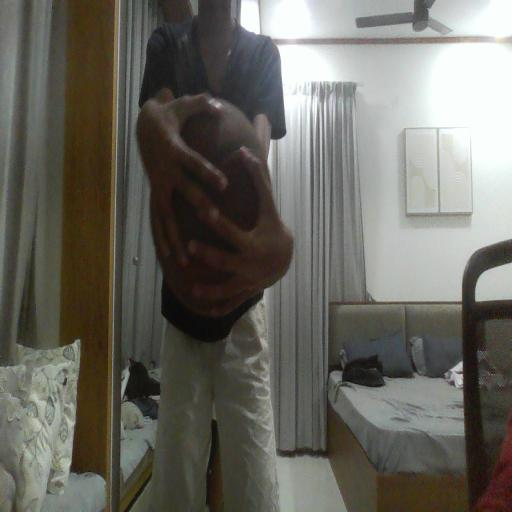basketball: (182, 101, 263, 230)
